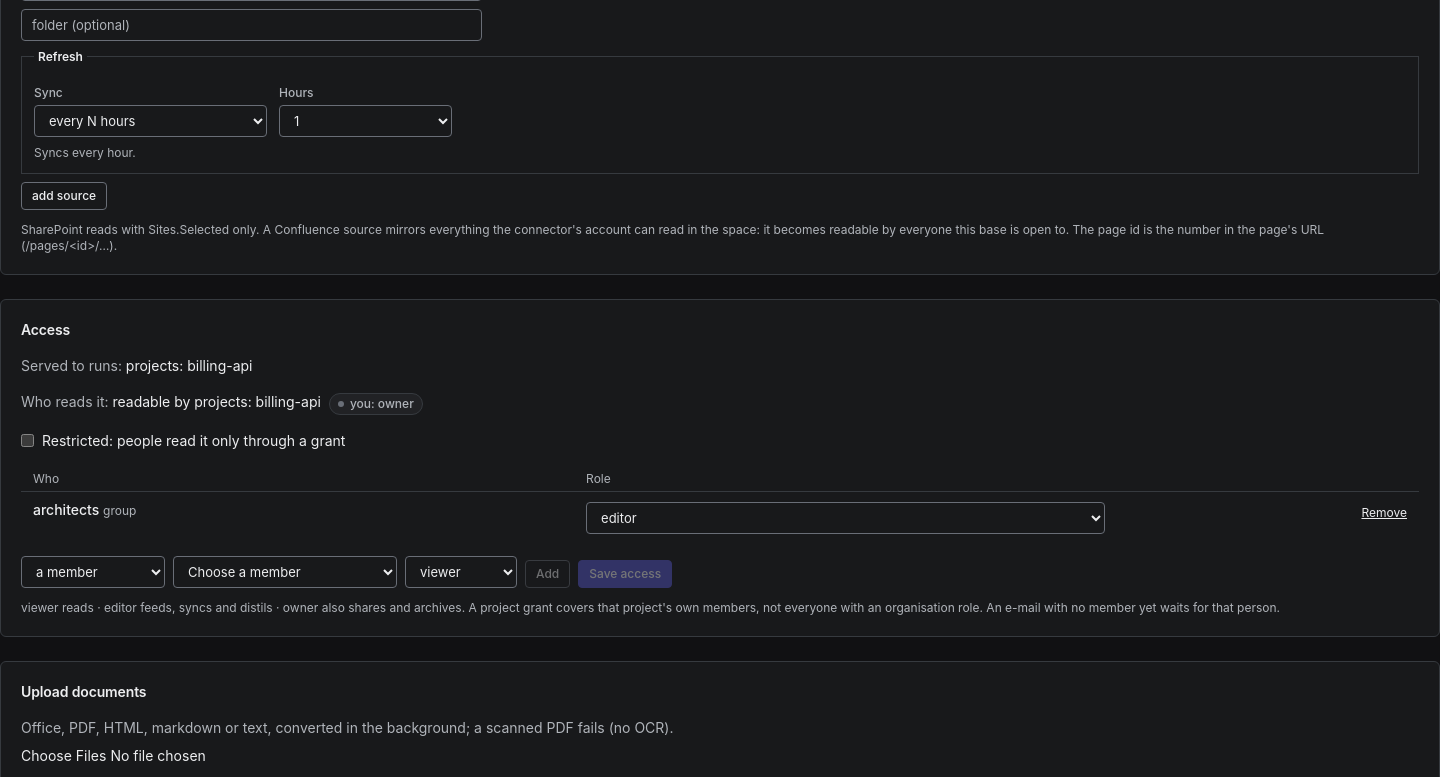
Scenario: the access card (S42-11) › a refused save says why and keeps the draft
(page scrolled)
Select "owner" in the dropdown named "Role of architects" at (846, 518), box [586,502,1105,534]
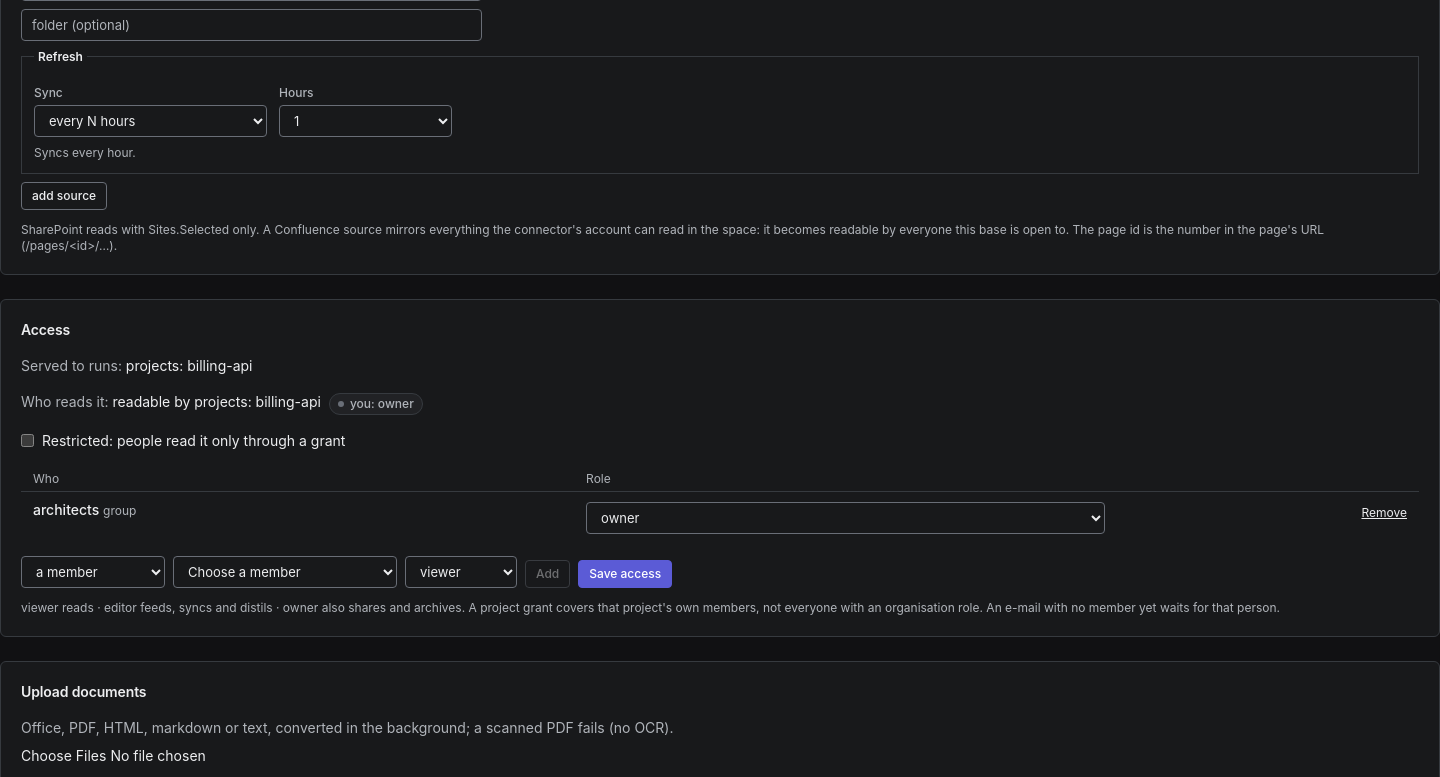
Click the button "Save access" at (625, 574), box [578,560,672,588]
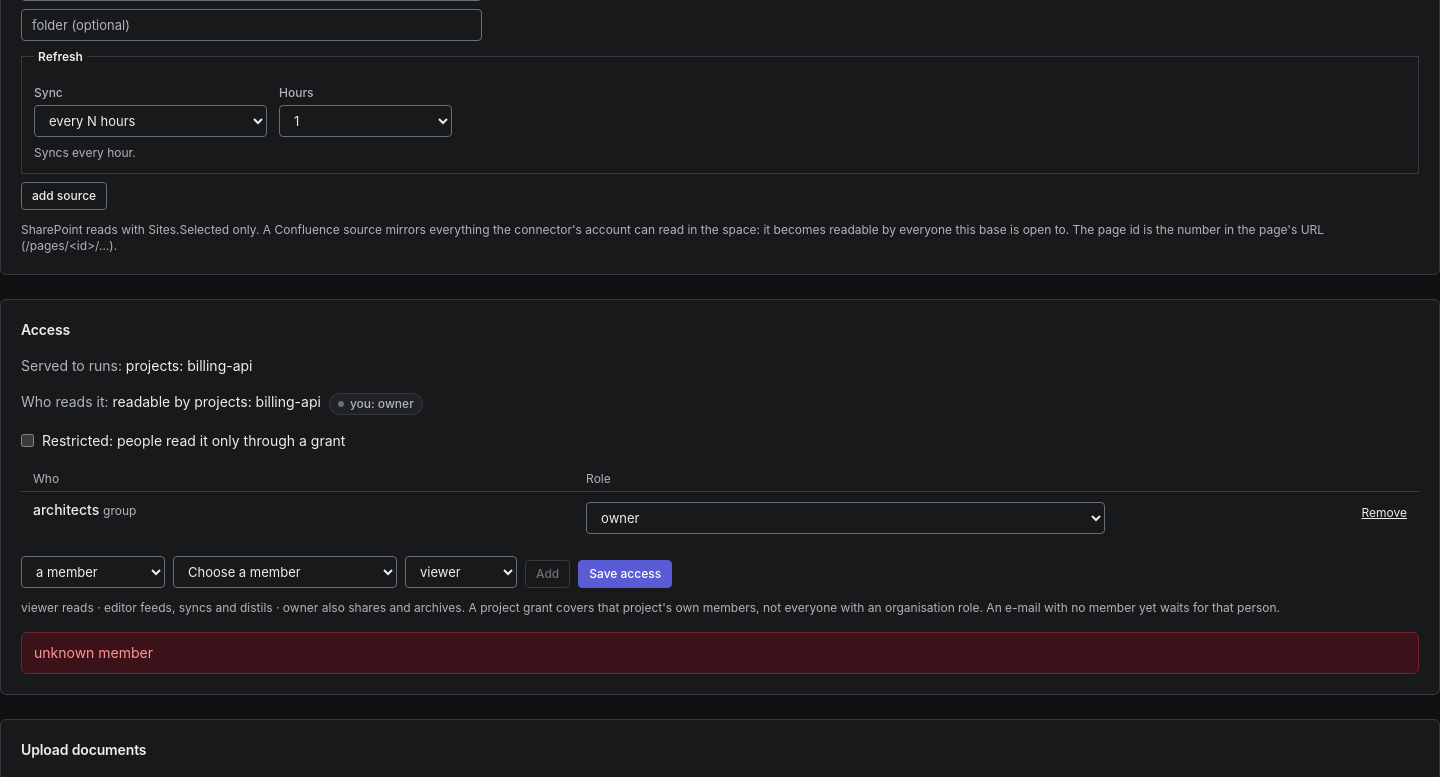
Now the text "unknown member" is shown, box [34,644,153,660]
